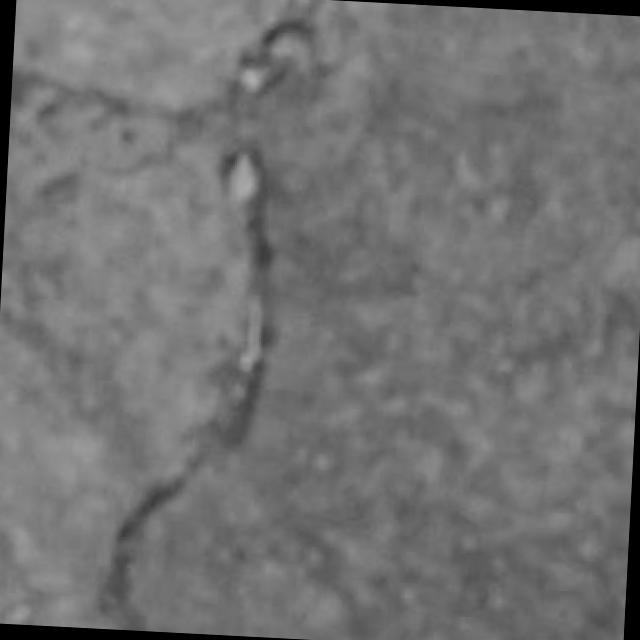crack: (101, 91, 271, 631)
